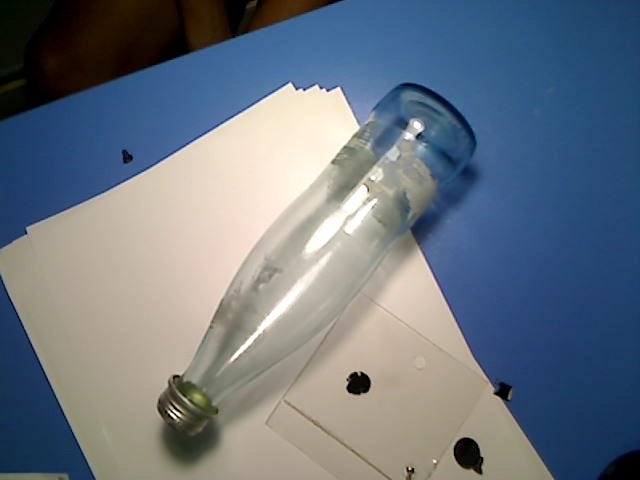bottle: (156, 80, 481, 440)
